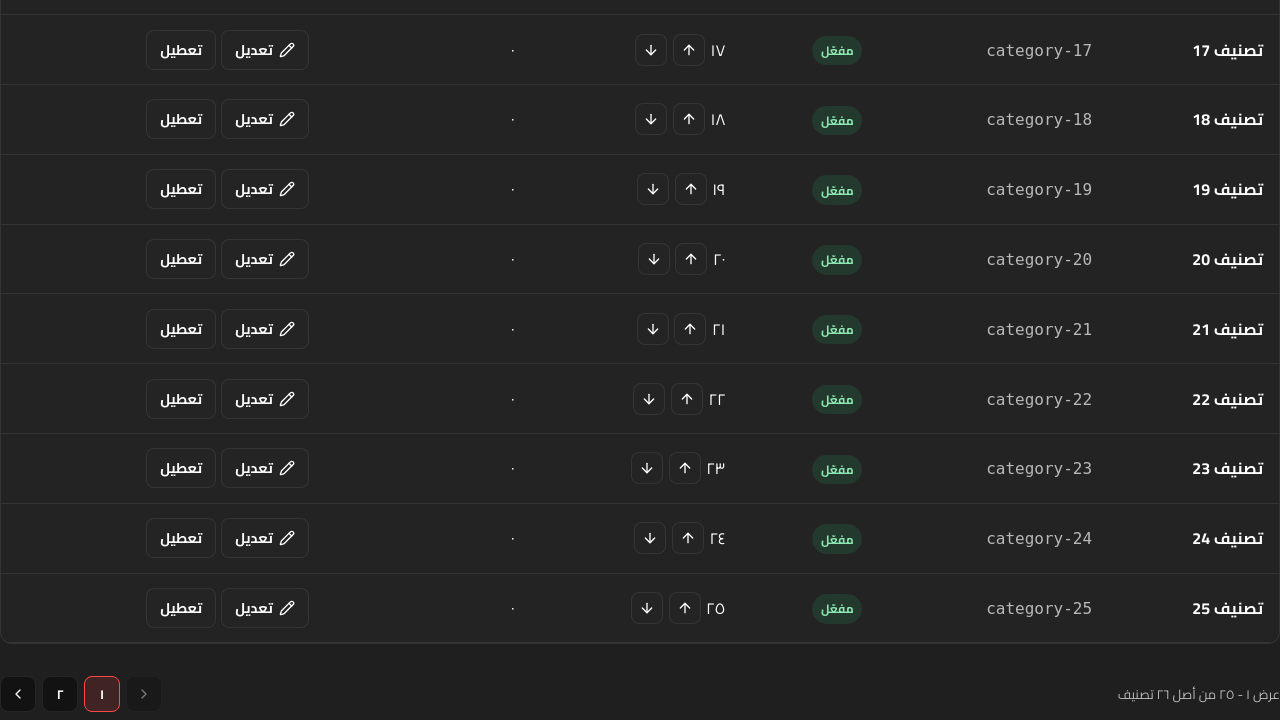
Scenario: AdminCategories › changes pages through the server query and supports Escape focus return
The image size is (1280, 720).
(page scrolled)
Click the button named "الصفحة التالية" at (18, 694), box top-left (0, 676), bottom-right (36, 712)
(page scrolled)
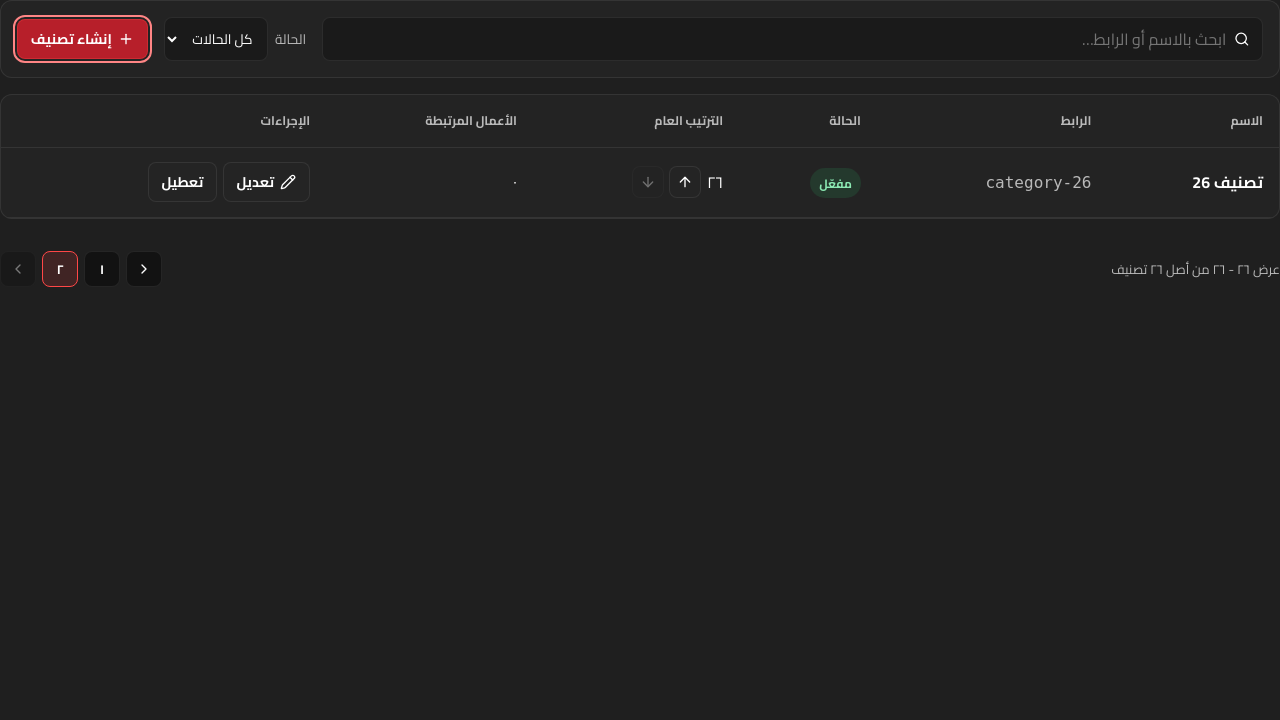
Now the text "تصنيف 26" is shown, box top-left (1192, 167), bottom-right (1263, 197)
Click the button "إنشاء تصنيف" at (82, 39), box top-left (17, 19), bottom-right (148, 59)
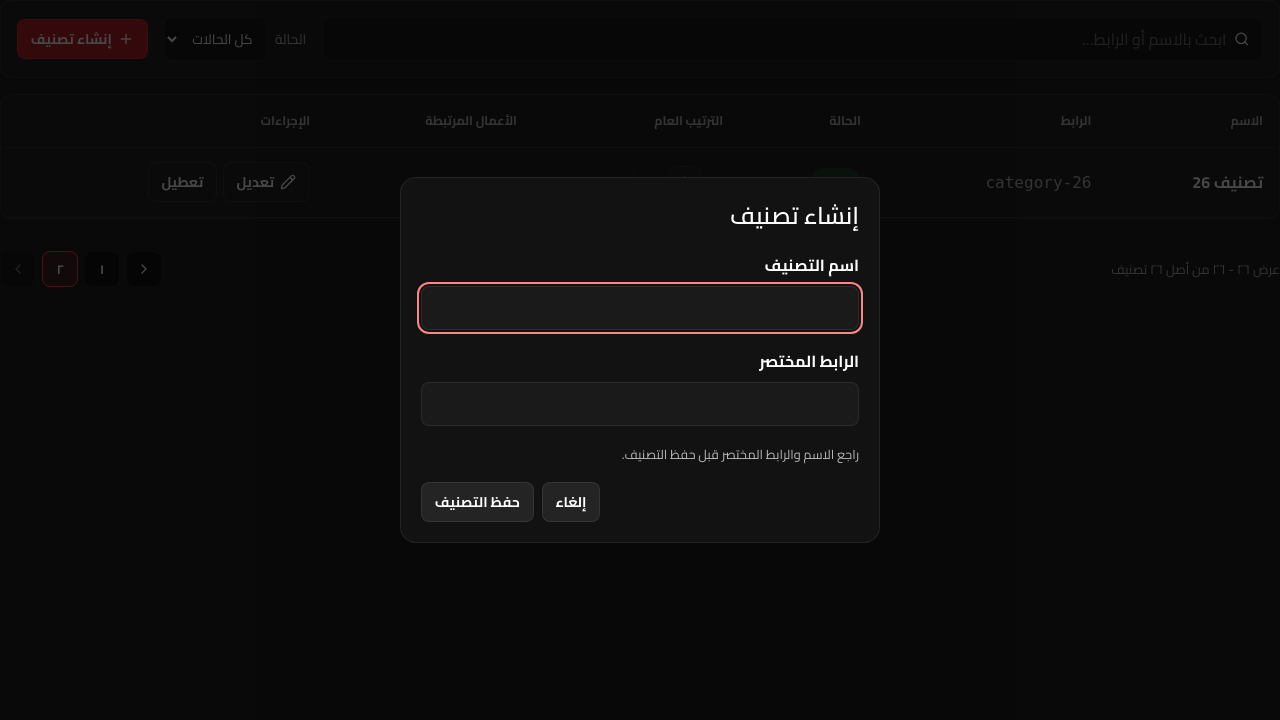
Press Escape in the dialog "إنشاء تصنيف"
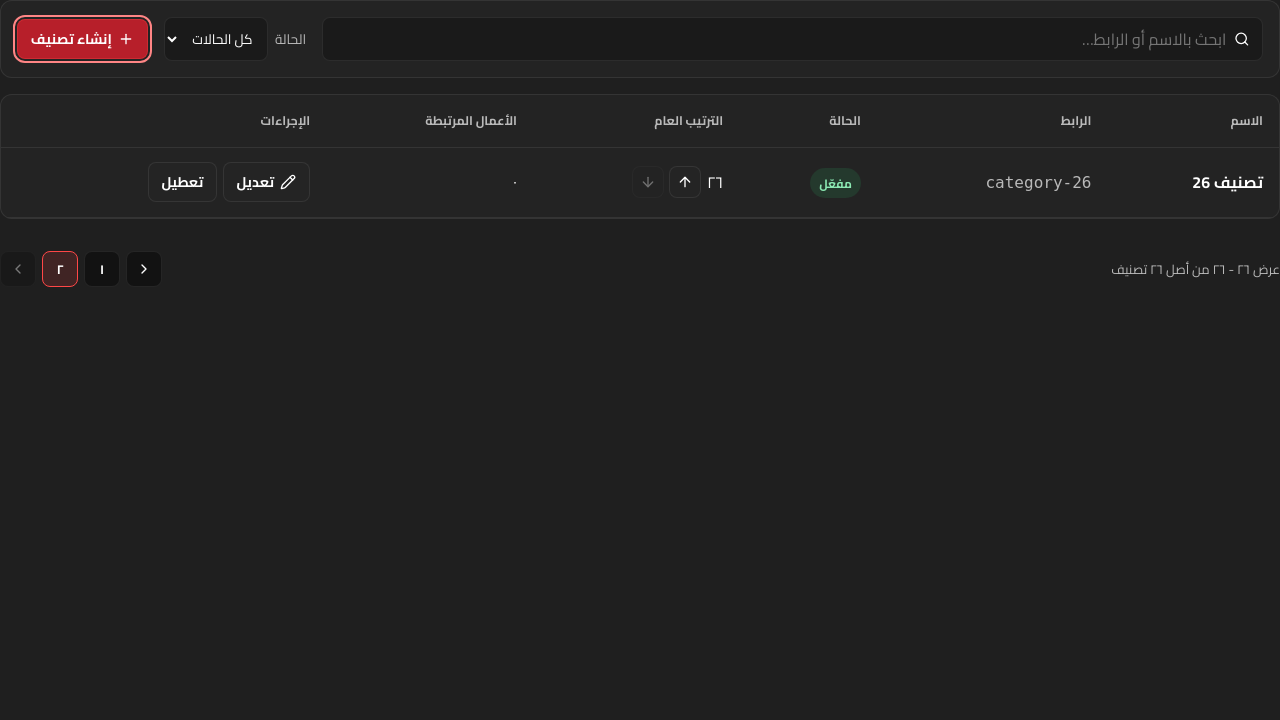
Now the dialog is gone
